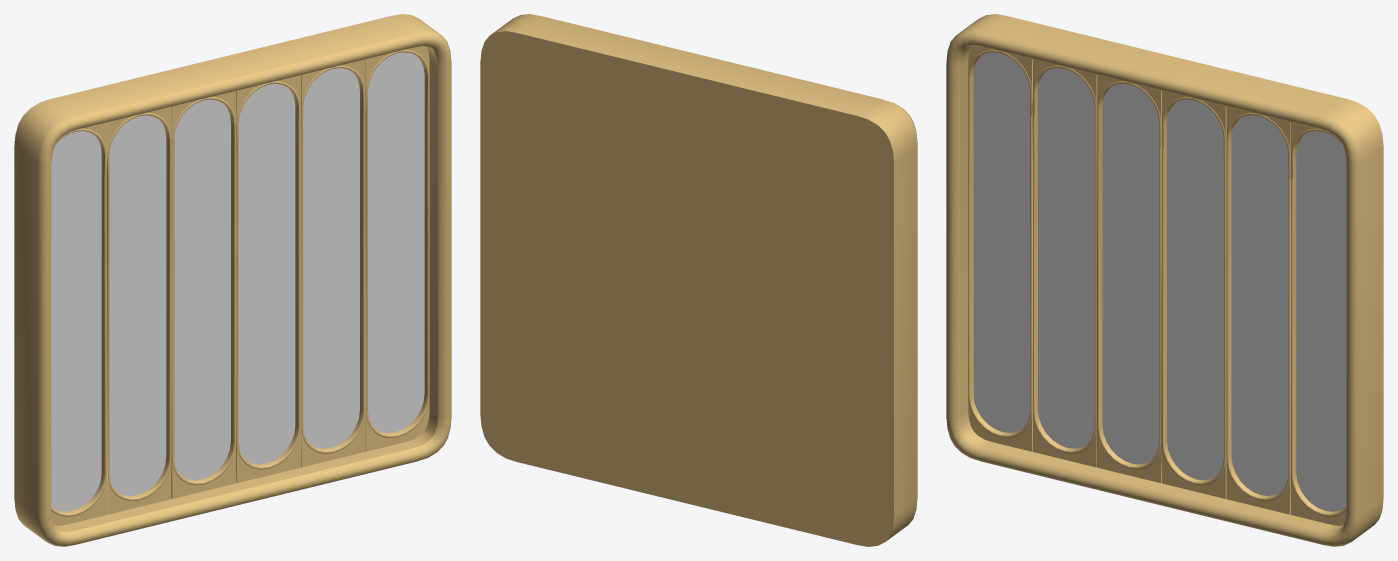
Rendered from SP_House08_Window01.fbx.
The picture shows the model from 3 angles, left to right: view 1: azimuth 30°, elevation 25°; view 2: azimuth 150°, elevation 25°; view 3: azimuth 330°, elevation 25°; orthographic projection.
Parts seen in each view (by area): view 1: SP_House08_Window01; view 2: SP_House08_Window01; view 3: SP_House08_Window01.
Part boxes in pixels (box(x1,y1,x2,y2)): SP_House08_Window01: box(14, 14, 451, 546); SP_House08_Window01: box(480, 14, 917, 546); SP_House08_Window01: box(946, 14, 1383, 546).
Bounding box in the file's own units: 4.52 × 4.48 × 0.5035.
